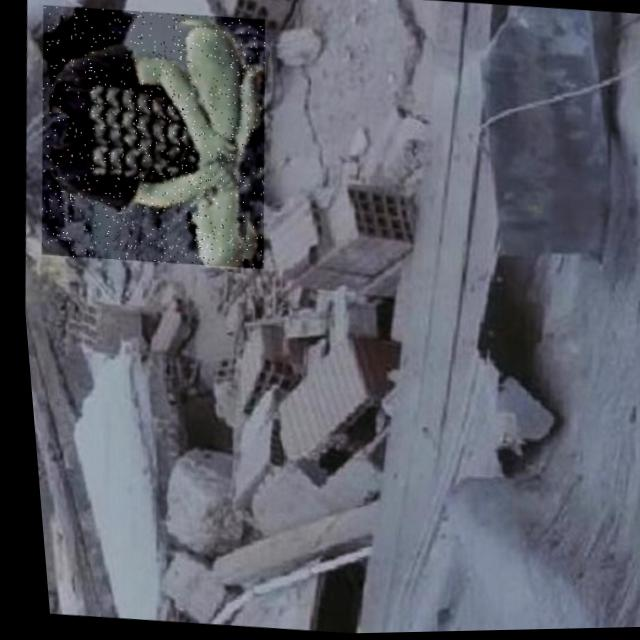Person in Rubble: (21, 0, 280, 273)
